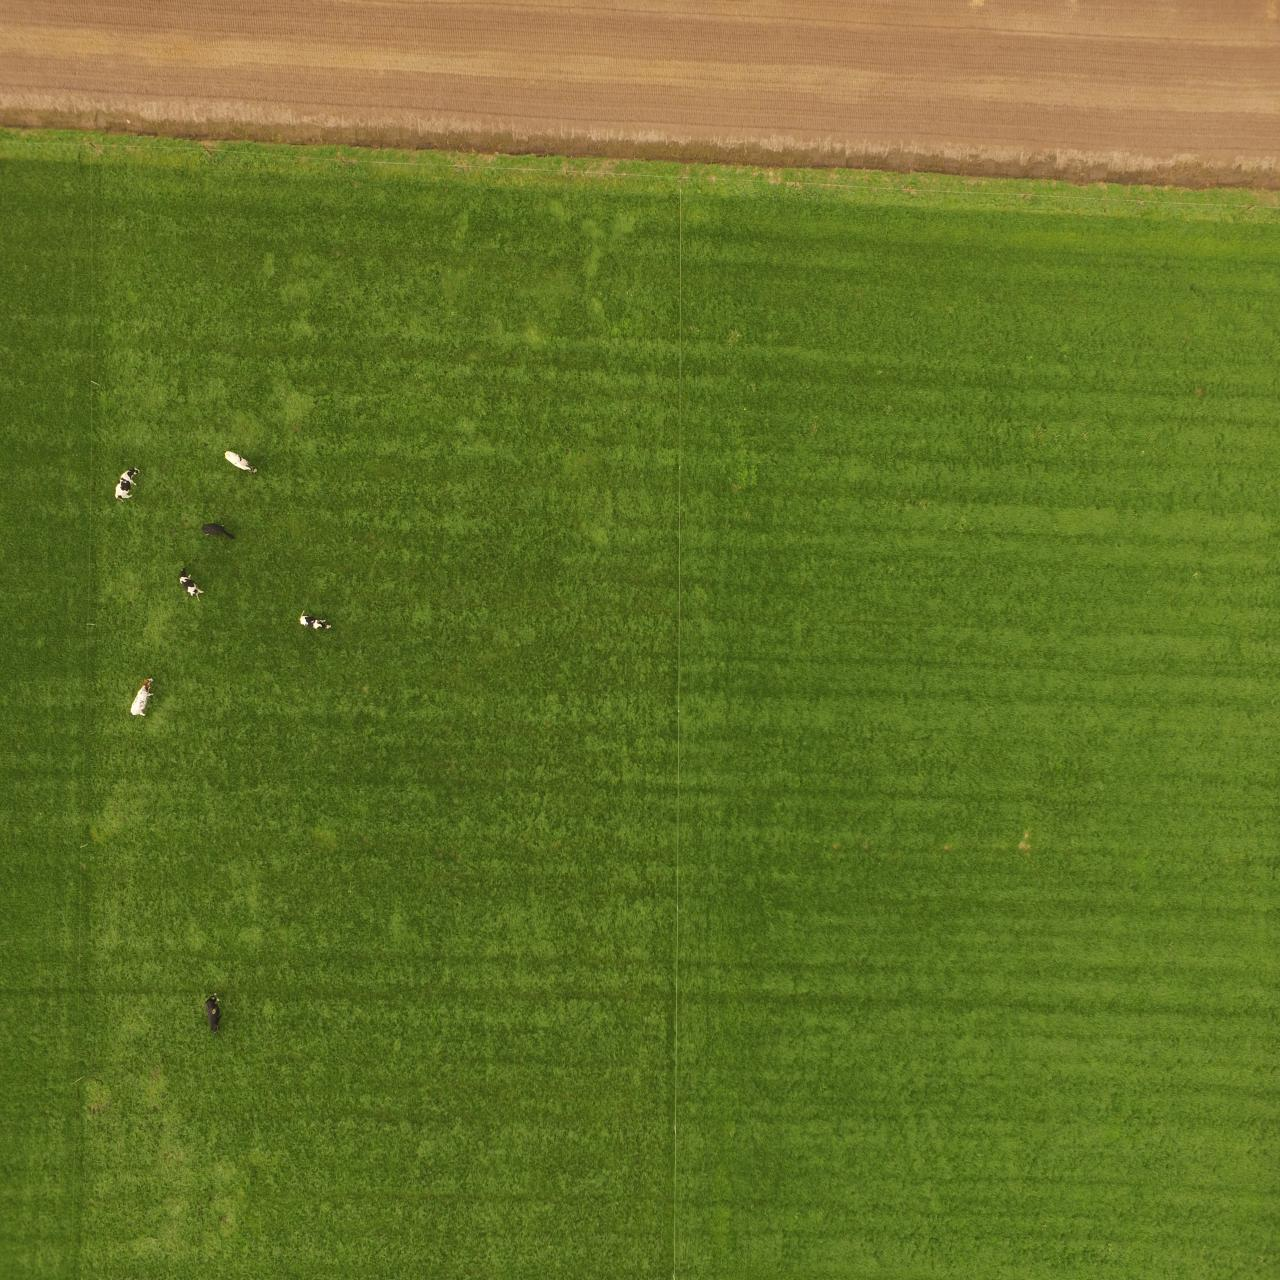cow: (123, 675, 157, 717), (176, 564, 204, 605), (203, 986, 224, 1036), (196, 519, 238, 544), (224, 447, 263, 472), (299, 610, 336, 631), (114, 465, 138, 491)
